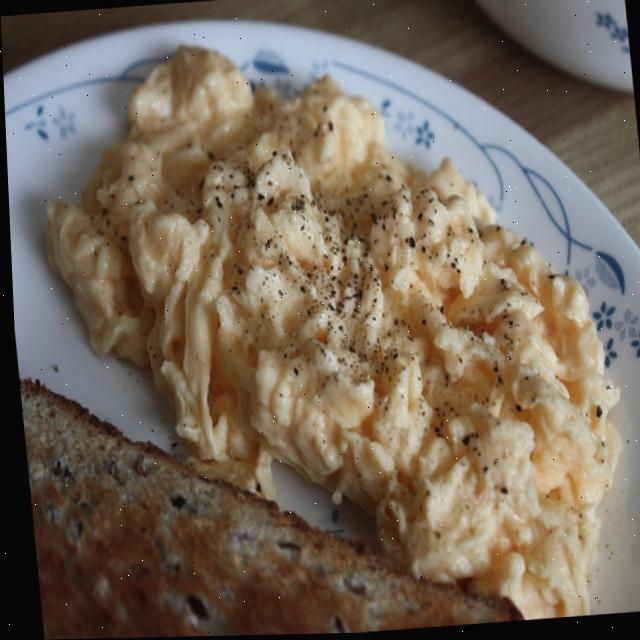鸡蛋料理: (1, 0, 640, 640)
